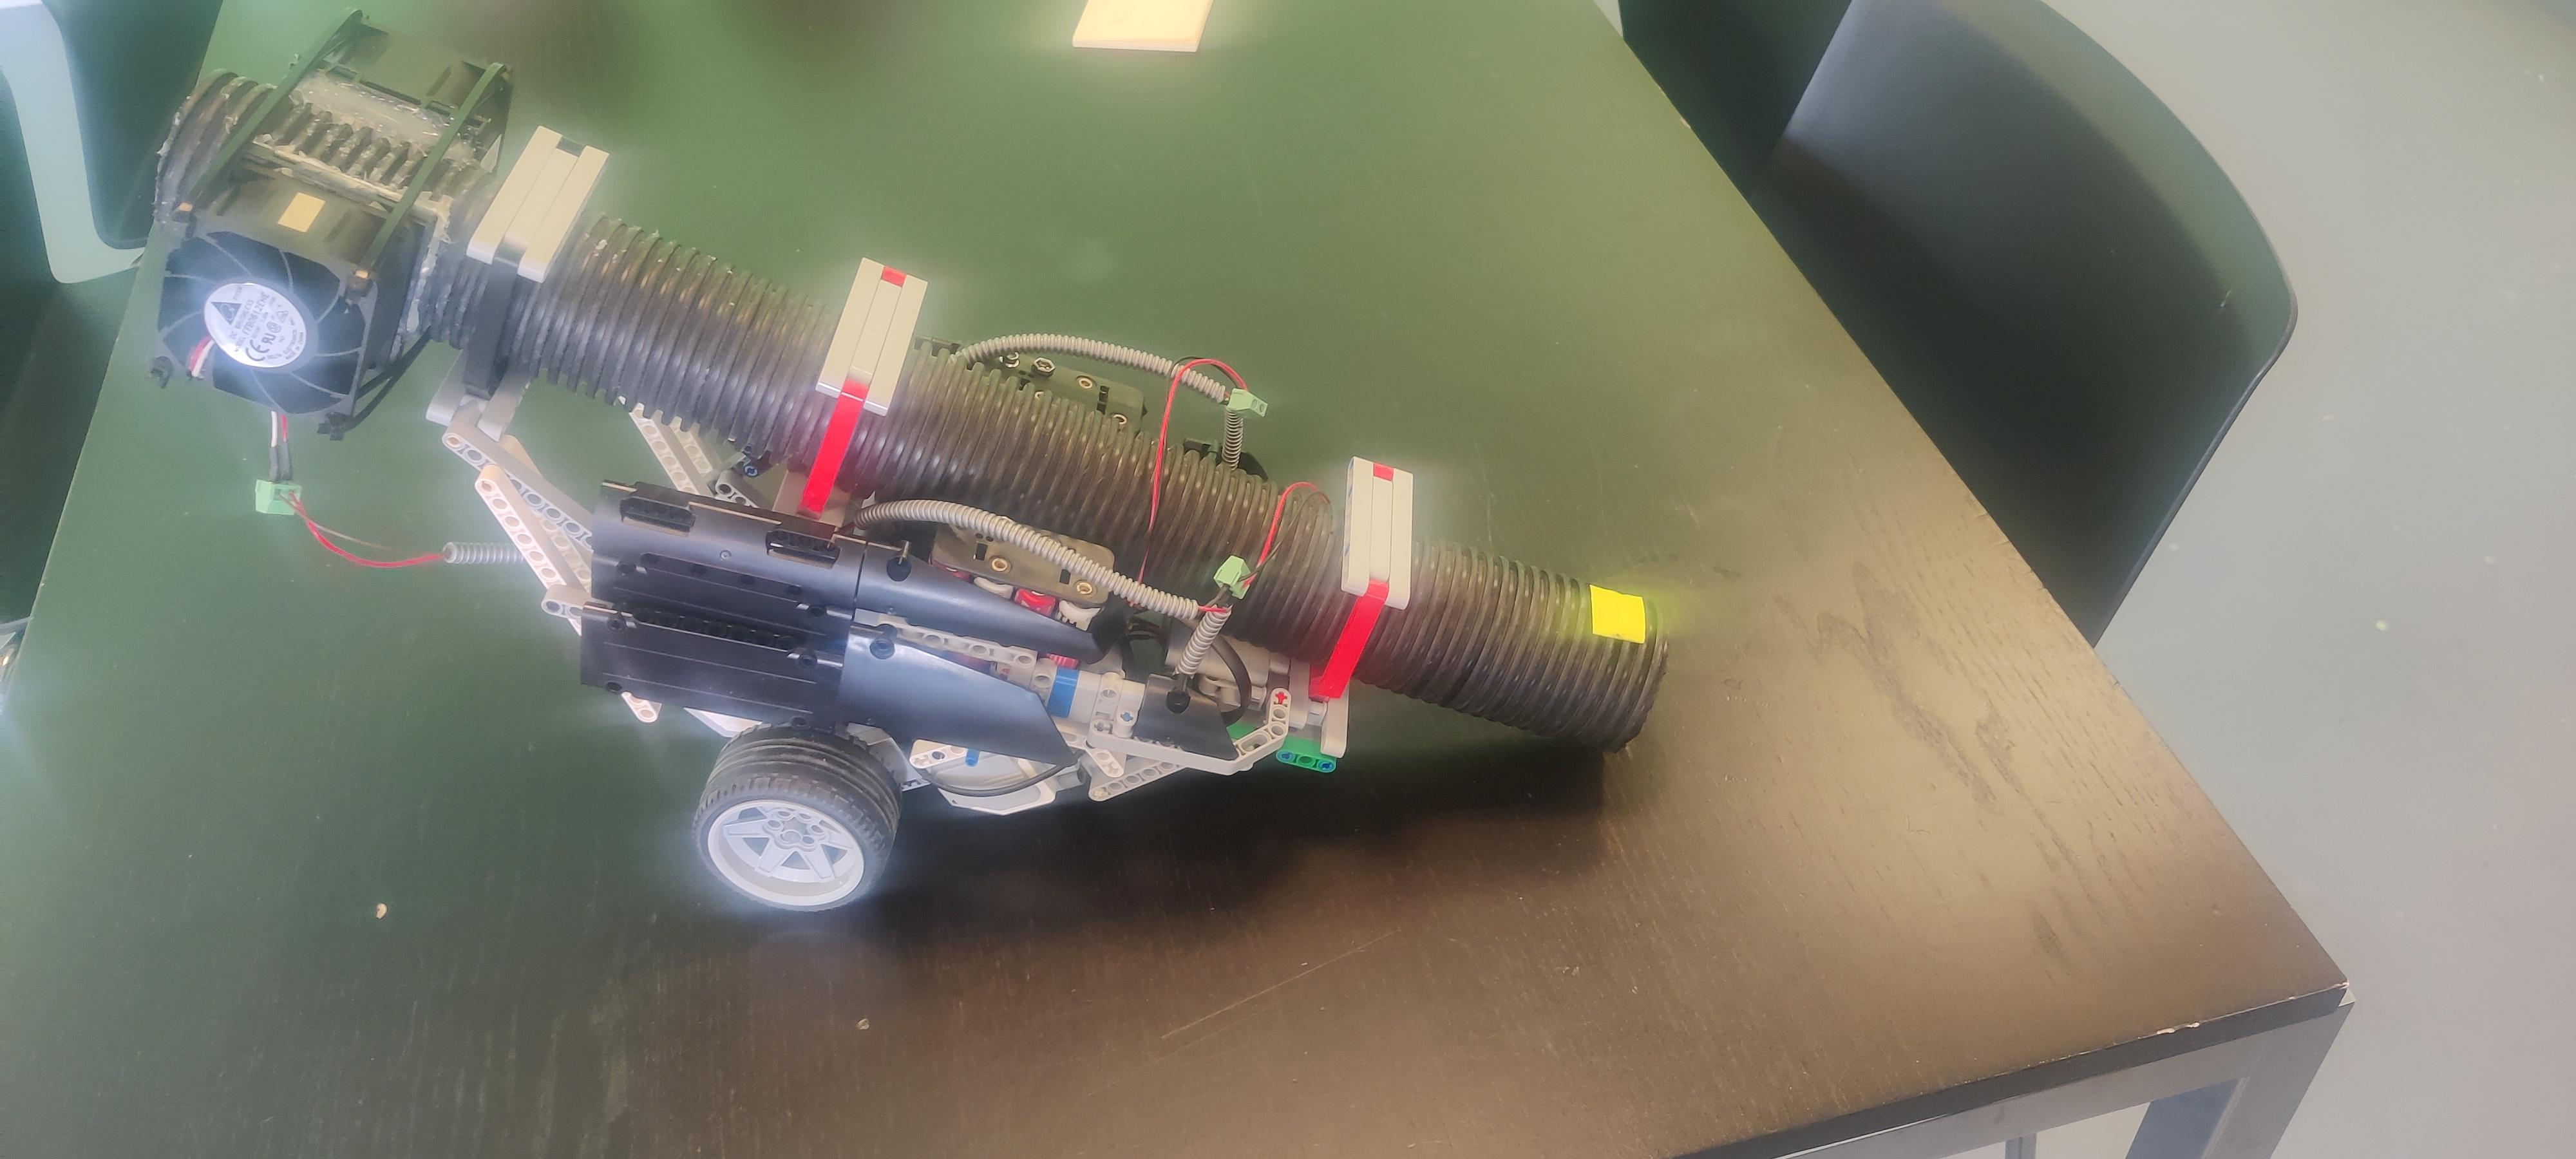robot: (154, 0, 1667, 911)
robot-front: (1373, 543, 1659, 747)
